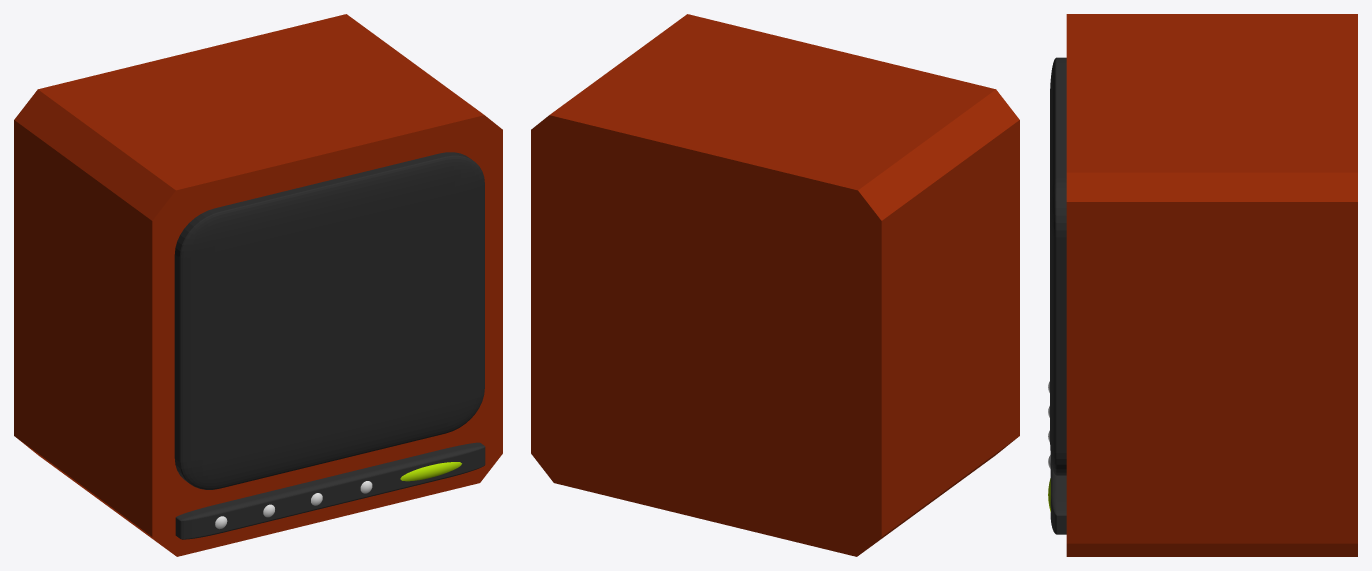
Rendered from old-tv-RED.gltf.
The picture shows the model from 3 angles, left to right: view 1: azimuth 30°, elevation 25°; view 2: azimuth 150°, elevation 25°; view 3: azimuth 270°, elevation 25°; orthographic projection. The views are drawn at different scales.
Parts seen in each view (by area): view 1: Cube, Cube.001, Cube.002, Sphere.004; view 2: Cube; view 3: Cube, Cube.001, Cube.002.
Part boxes in pixels (box(x1,y1,x2,y2)): Cube: box(14, 14, 502, 556); Cube.001: box(174, 152, 484, 489); Cube.002: box(175, 442, 485, 539); Sphere.004: box(400, 462, 461, 481); Cube: box(531, 14, 1019, 556); Cube: box(1066, 14, 1357, 556); Cube.001: box(1050, 57, 1066, 475); Cube.002: box(1050, 455, 1066, 534).
Size of the model in its own units: 1.72 by 1.72 by 1.25.
